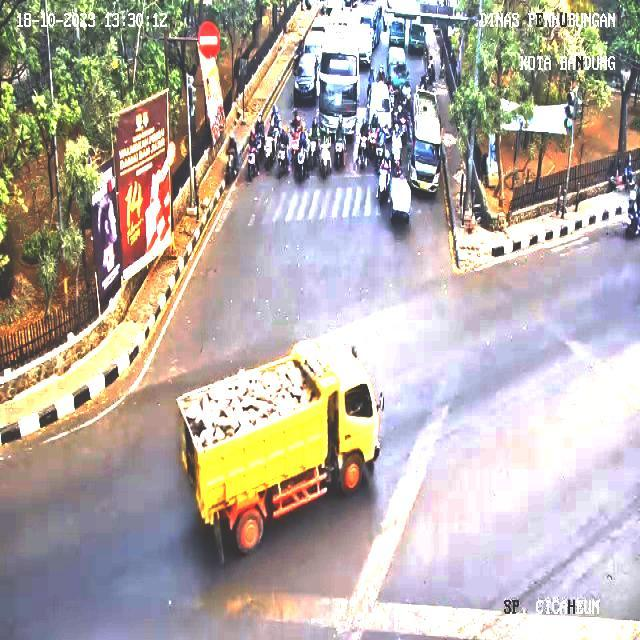bus: (319, 50, 358, 133)
car: (294, 52, 318, 106), (368, 81, 391, 128), (388, 46, 408, 88)
lorry: (178, 341, 381, 552), (409, 88, 441, 192)
motorcycle: (246, 148, 258, 181)
motorcyclist: (225, 136, 239, 184), (376, 159, 391, 202), (255, 115, 265, 149)
